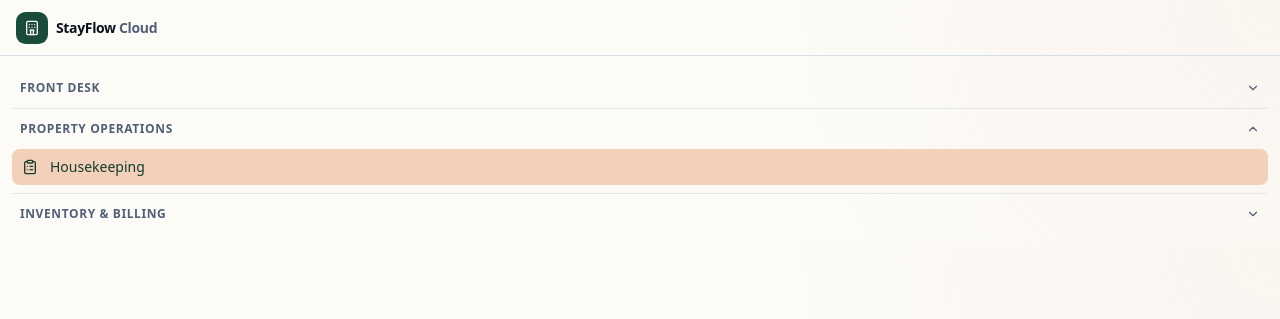
Sidebar › exposes accessible, collapsible workflow groups
Expected: the navigation bar named "Primary navigation" is shown, [0,56,1279,246]
Click the button "Front desk" at (60, 88), box [12,72,1268,104]
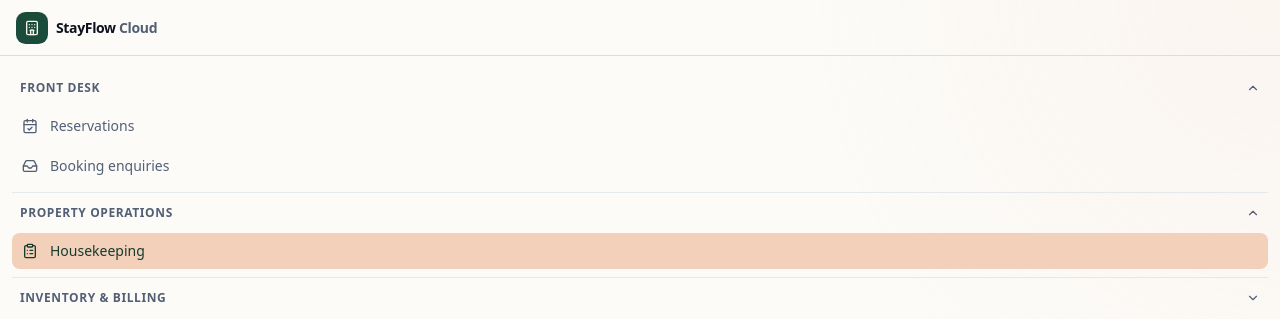
Now the button "Front desk" is expanded, box [12,72,1268,104]
